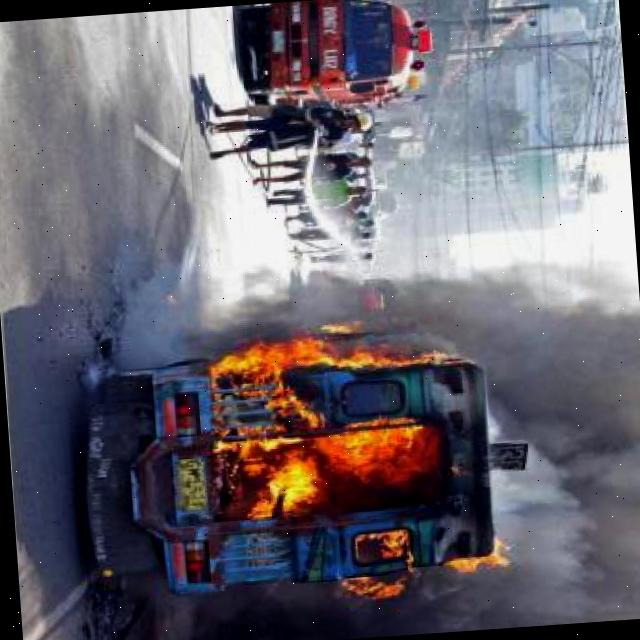fire: (207, 321, 438, 414), (214, 431, 327, 517), (321, 412, 439, 485), (328, 526, 428, 605), (431, 535, 521, 586)
